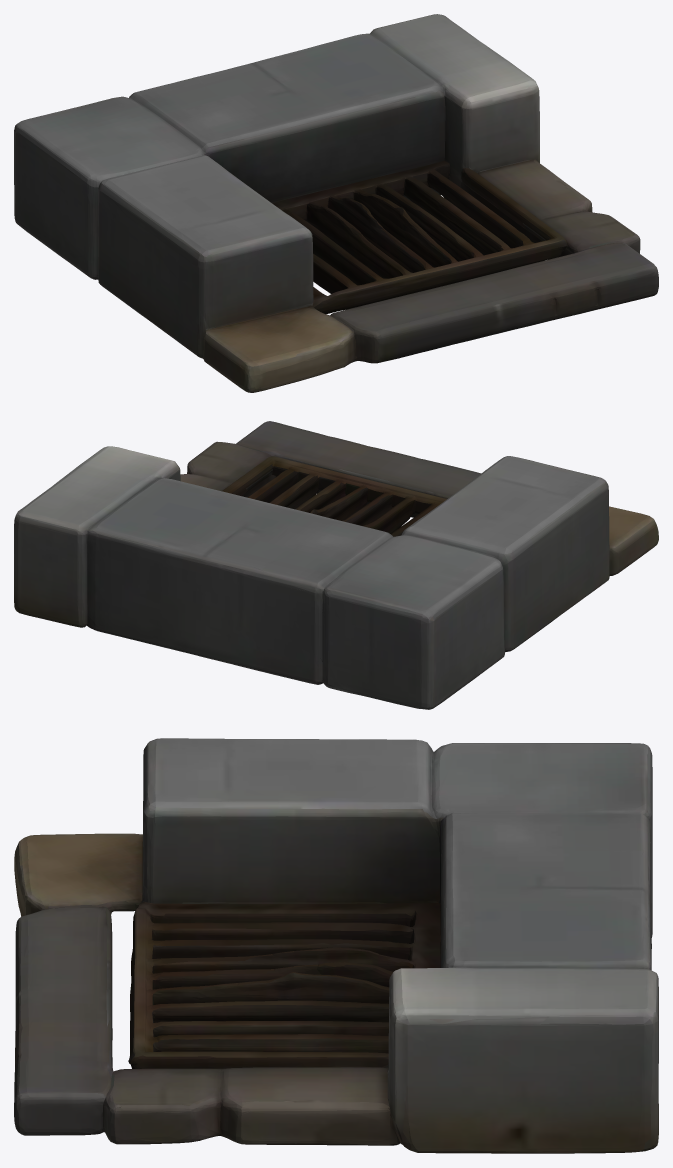
File: sewer grate and curb.glb
The picture shows the model from 3 angles, top to bottom: view 1: azimuth 30°, elevation 25°; view 2: azimuth 150°, elevation 25°; view 3: azimuth 270°, elevation 25°; orthographic projection. The views are drawn at different scales.
Parts seen in each view (by area): view 1: world; view 2: world; view 3: world.
Boxes of the visible parts, x1,y1,x2,y2 form: world: (14,14,658,392); world: (14,421,658,709); world: (14,738,658,1153).
Bounding box in the file's own units: 0.9906 × 0.2331 × 0.9511.
1 material, 1 textured.
